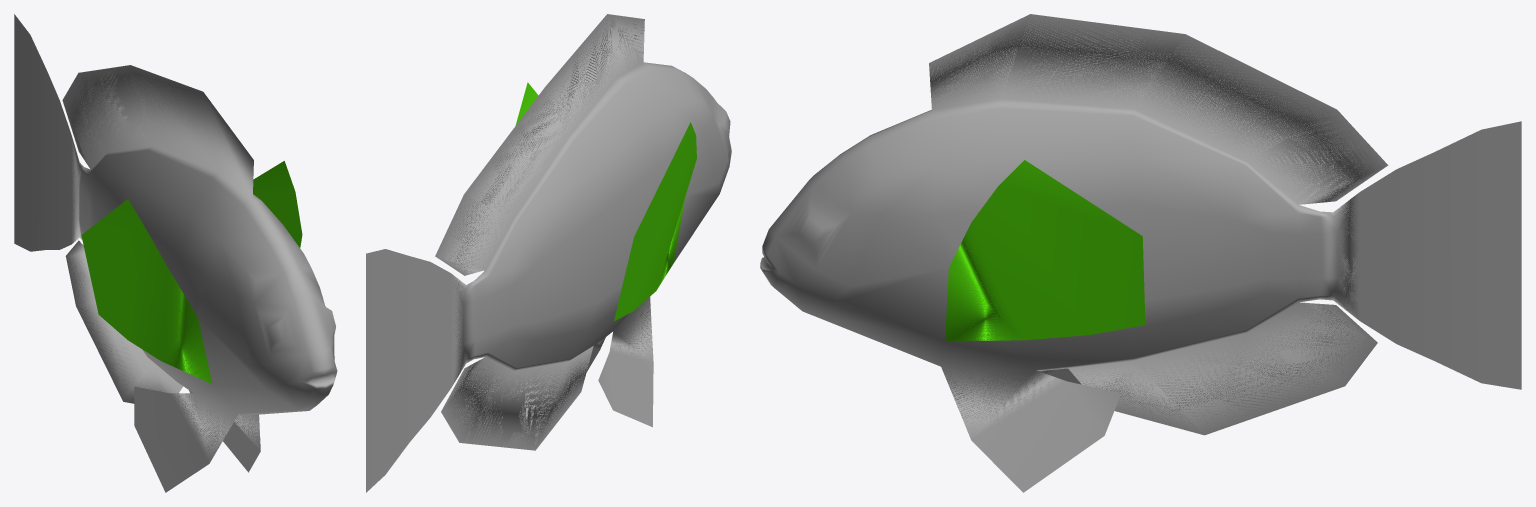
Rendered from Pomacentridae_C_S.fbx.
3 views of the same model, side by side, from view 1: azimuth 30°, elevation 25°; view 2: azimuth 150°, elevation 25°; view 3: azimuth 270°, elevation 25° (orthographic). The views are drawn at different scales.
Parts seen in each view (by area): view 1: Pomacentridae_C_S_Mesh; view 2: Pomacentridae_C_S_Mesh; view 3: Pomacentridae_C_S_Mesh.
Part boxes in pixels (x1,y1,x2,y2): Pomacentridae_C_S_Mesh: [14, 14, 337, 492]; Pomacentridae_C_S_Mesh: [366, 14, 731, 492]; Pomacentridae_C_S_Mesh: [760, 14, 1521, 492].
Size of the model in its own units: 0.00276 by 0.00656 by 0.00996.
